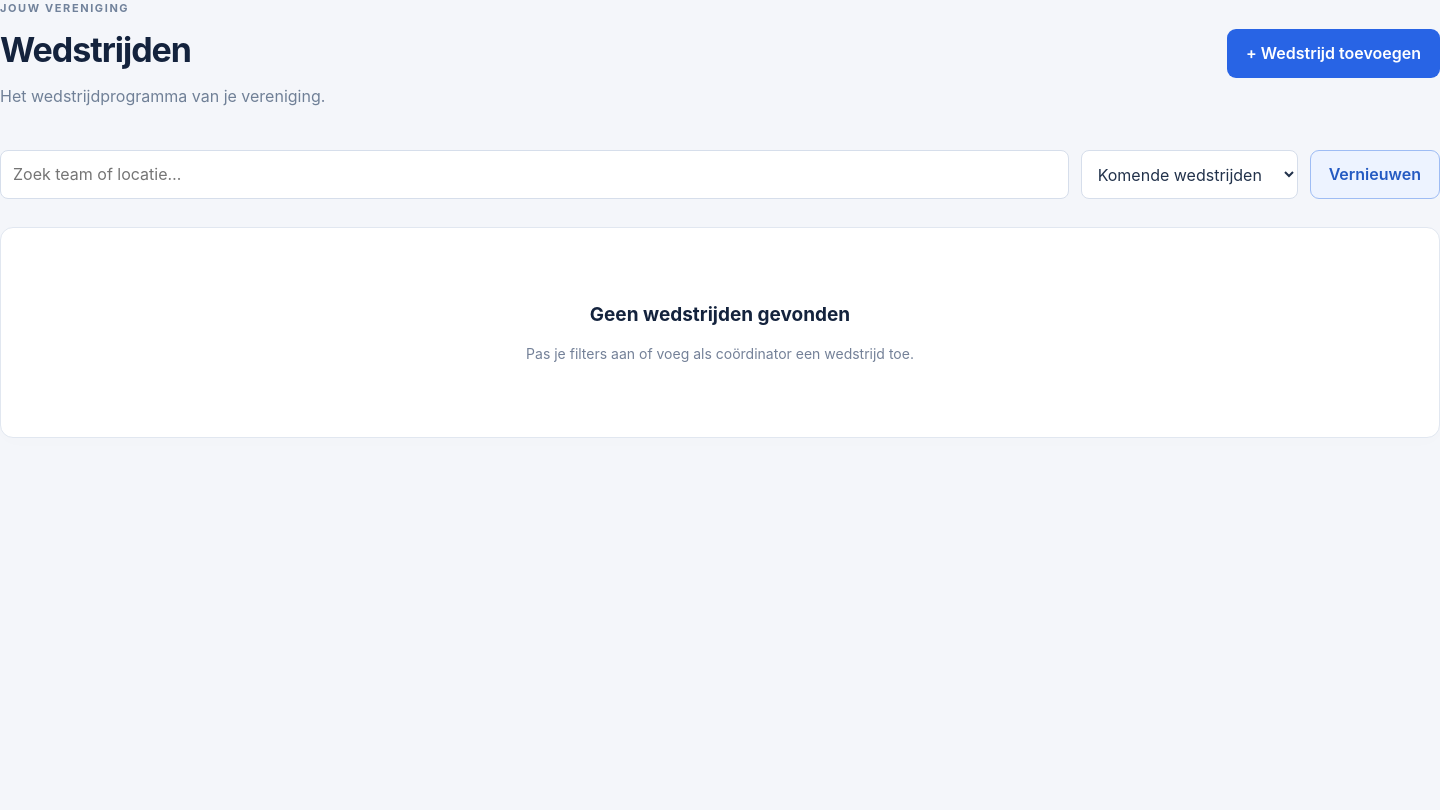
Test: preserves form and reports an unsuccessful write
Click the button "+ Wedstrijd toevoegen" at (1334, 53), box [1227,29,1439,78]
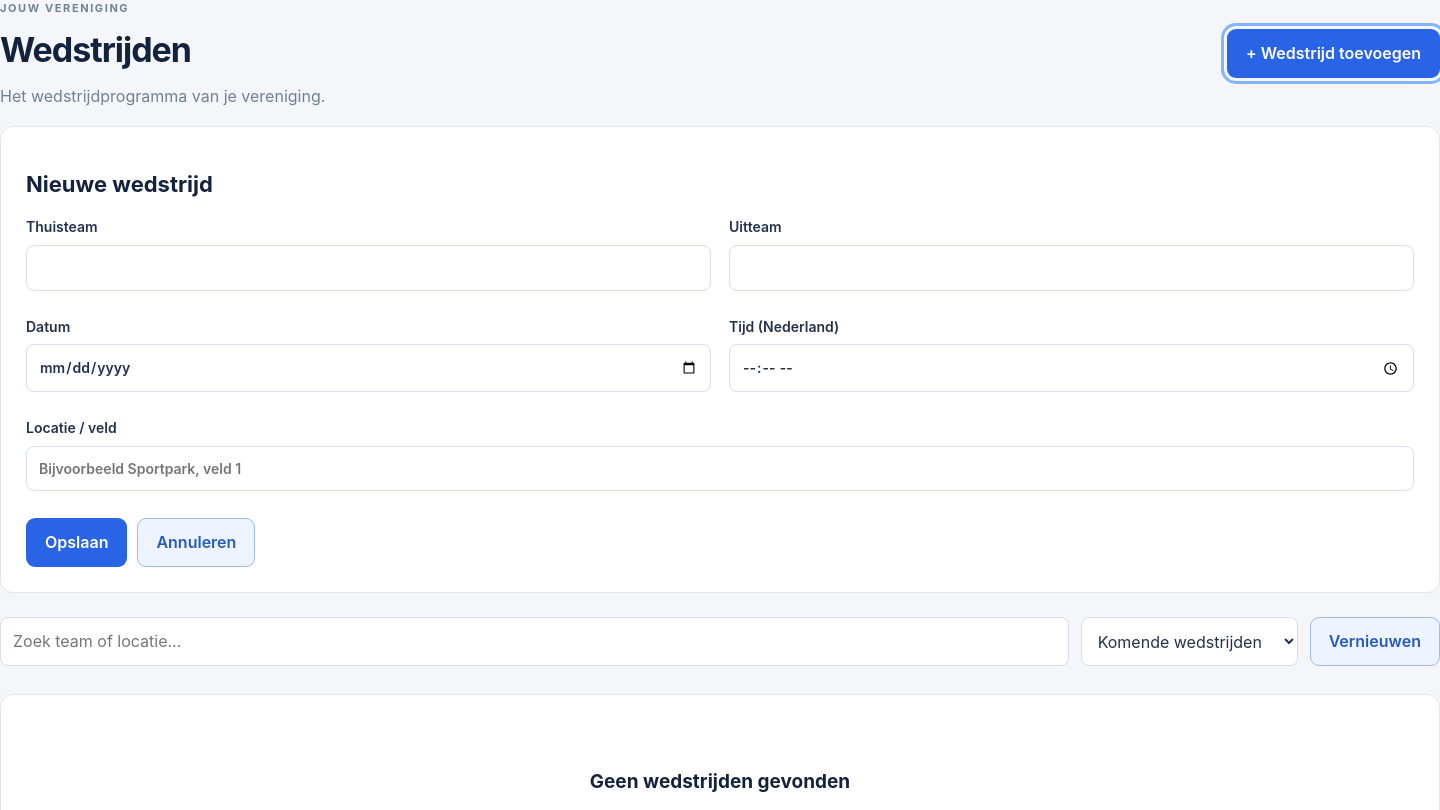
Type "A" into the field labelled "Thuisteam" at (368, 268), box [26,245,711,291]
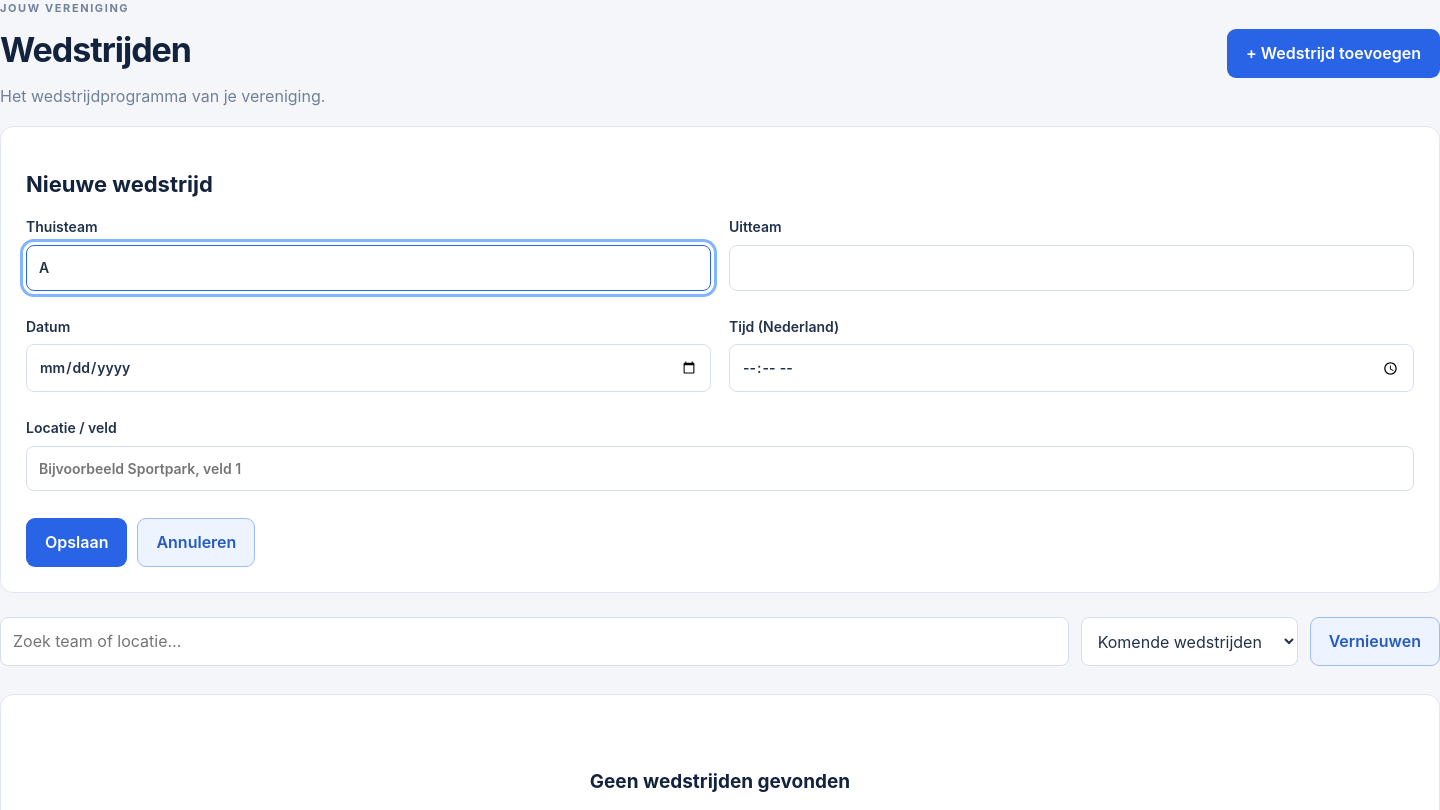
Type "B" into the field labelled "Uitteam" at (1072, 268), box [729,245,1414,291]
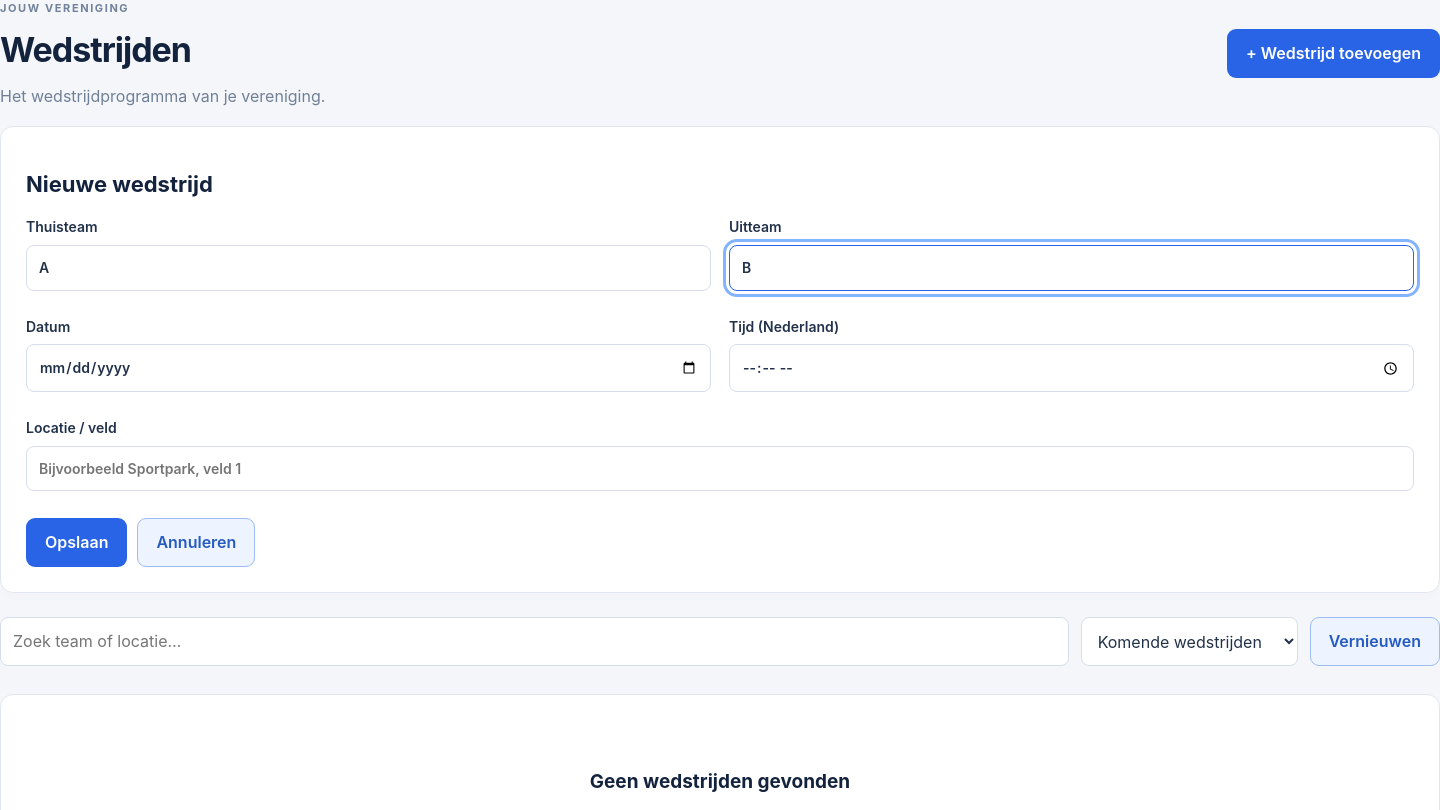
Type "2027-06-12" into the date field labelled "Datum" at (368, 368), box [26,344,711,392]
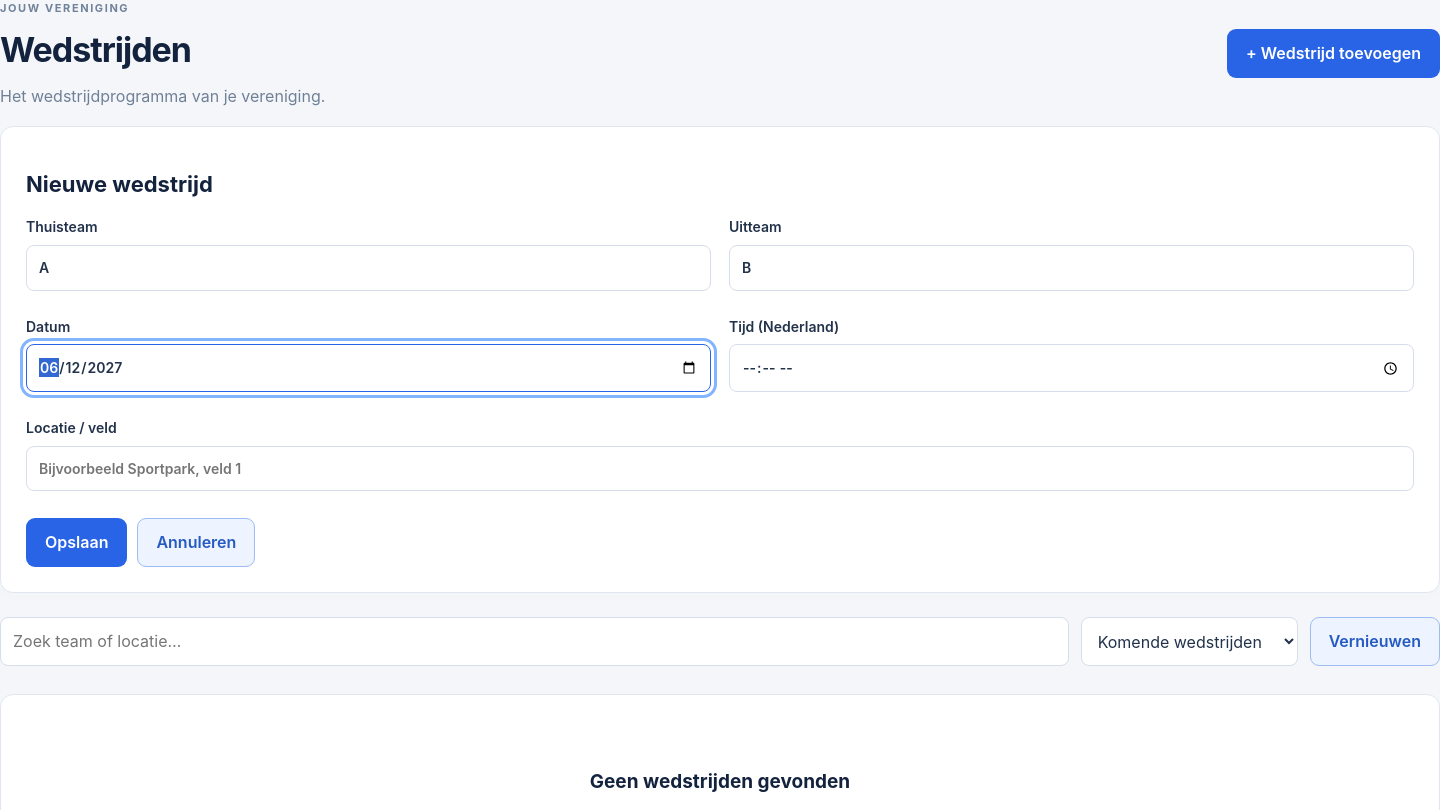
Type "15:00" into the time field labelled "Tijd (Nederland)" at (1072, 368), box [729,344,1414,392]
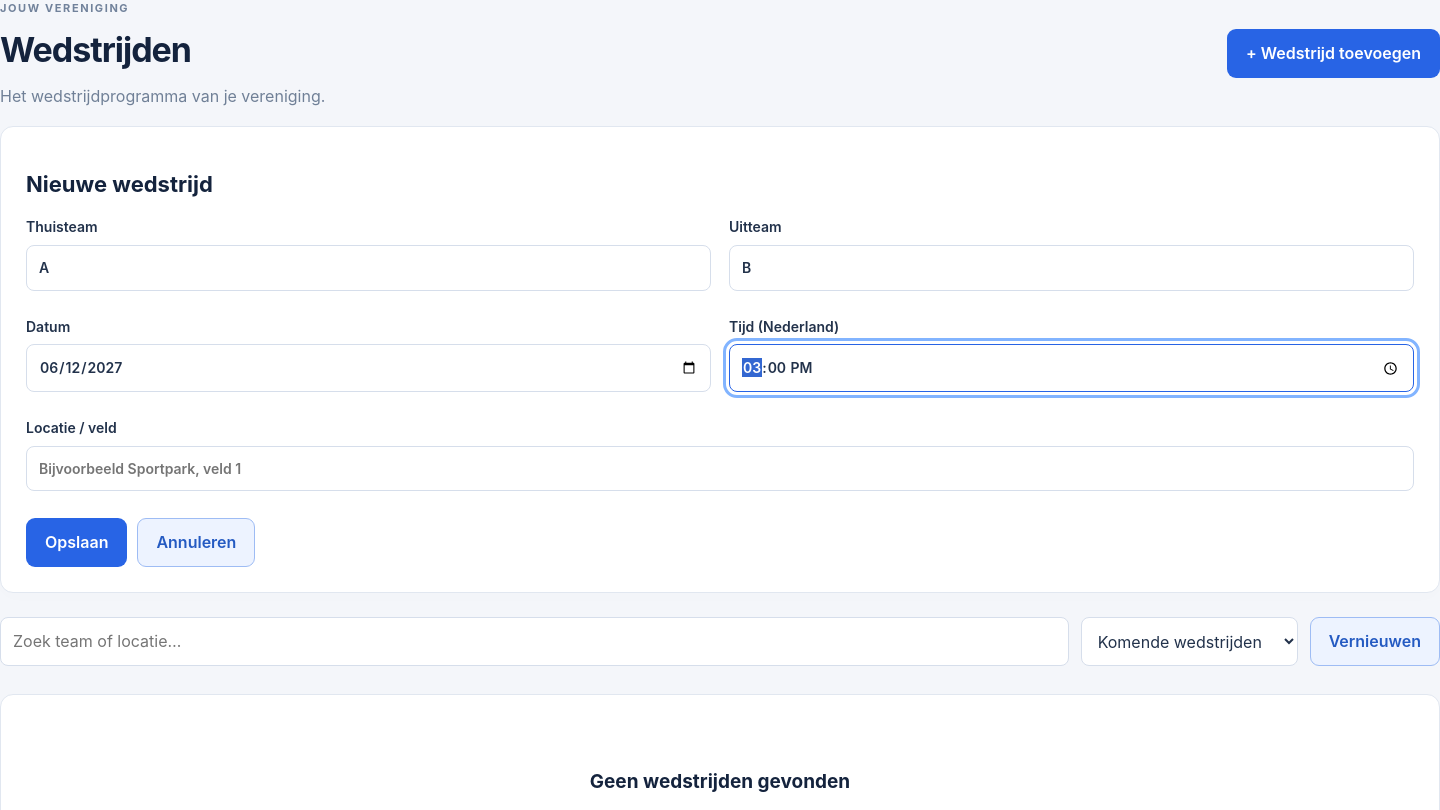
Click the button "Opslaan" at (77, 543), box [26,518,127,567]
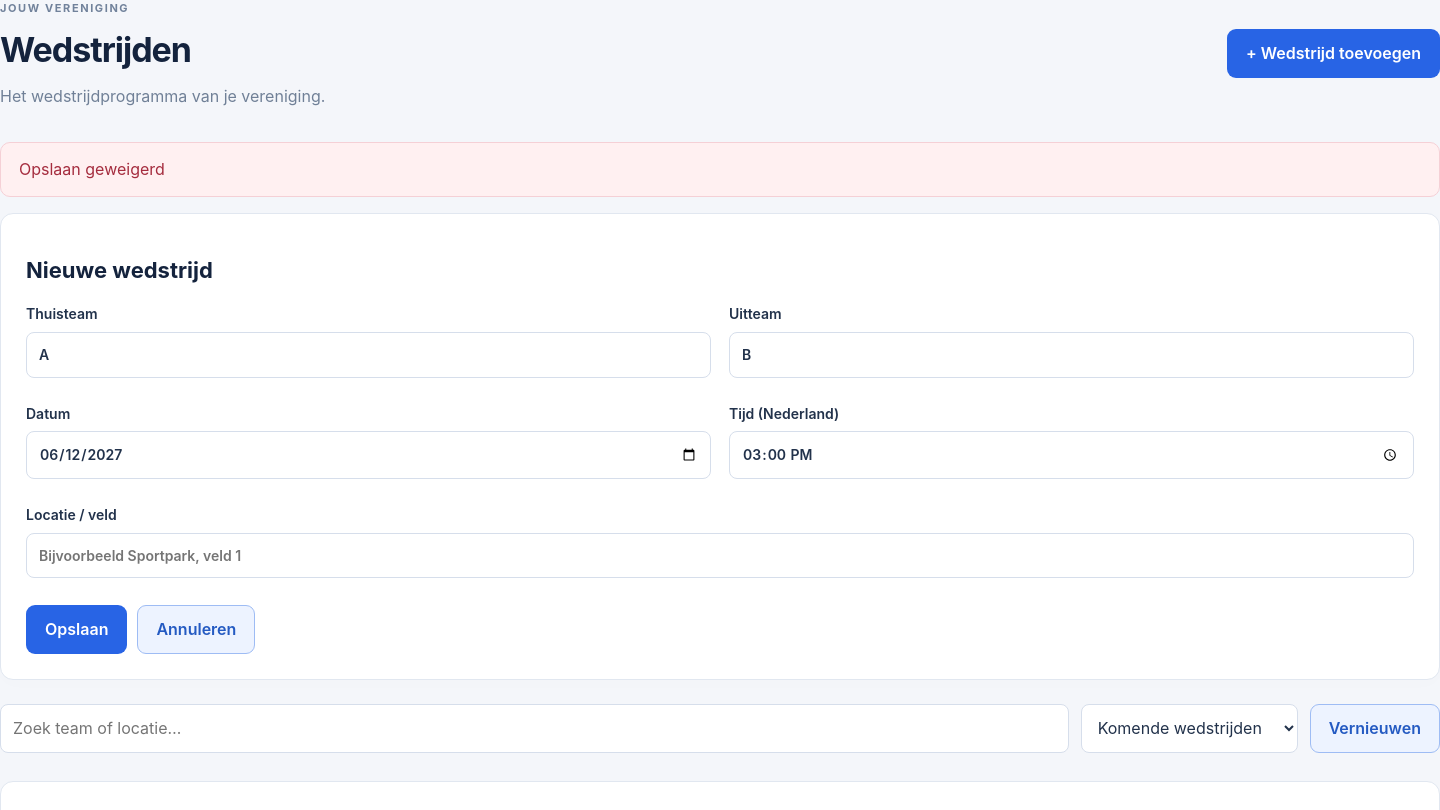
Expected: the message reads "Opslaan geweigerd", [19,159,165,179]
